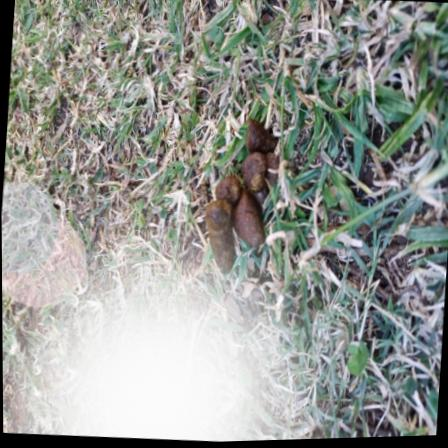dog-poop: (192, 108, 296, 271)
